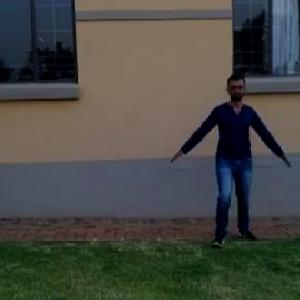land: (181, 76, 287, 236)
